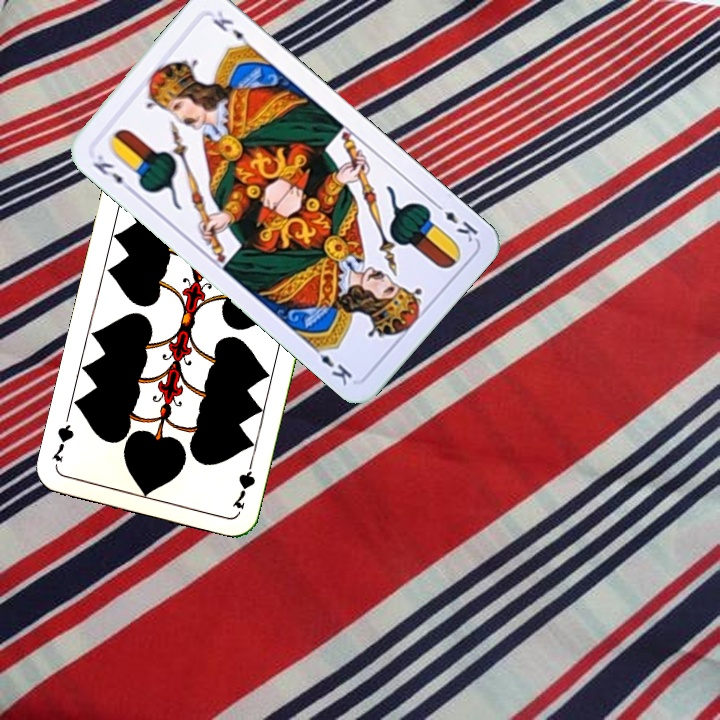EK: (429, 198, 481, 245), (88, 150, 136, 195)
G7: (228, 454, 258, 511)
